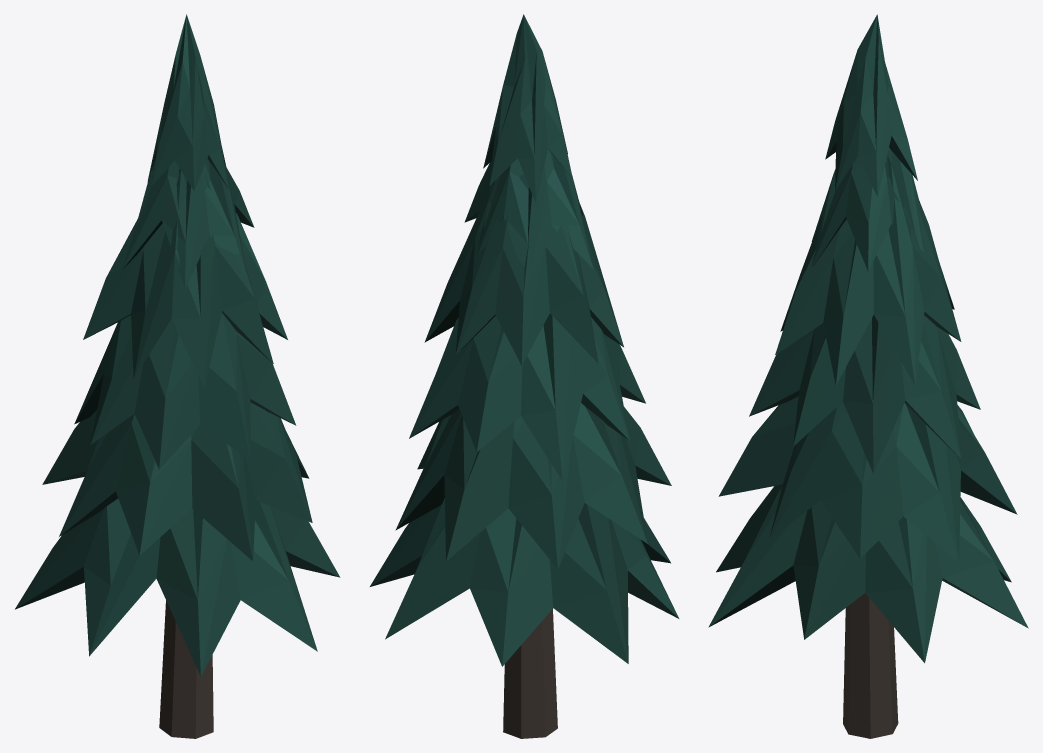
Rendered from Spruce0.glb.
The picture shows the model from 3 angles, left to right: view 1: azimuth 30°, elevation 25°; view 2: azimuth 150°, elevation 25°; view 3: azimuth 270°, elevation 25°; orthographic projection.
Visible parts, largest first — view 1: Spruce0; view 2: Spruce0; view 3: Spruce0.
Part boxes in pixels (<box>): Spruce0: <box>15,14,340,738</box>; Spruce0: <box>370,14,679,738</box>; Spruce0: <box>708,14,1028,738</box>.
Bounding box in the file's own units: 0.3943 × 1 × 0.4072.
